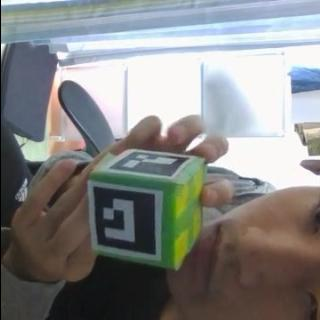armor: (90, 179, 164, 261), (96, 148, 194, 180)
robot: (81, 148, 206, 270)
